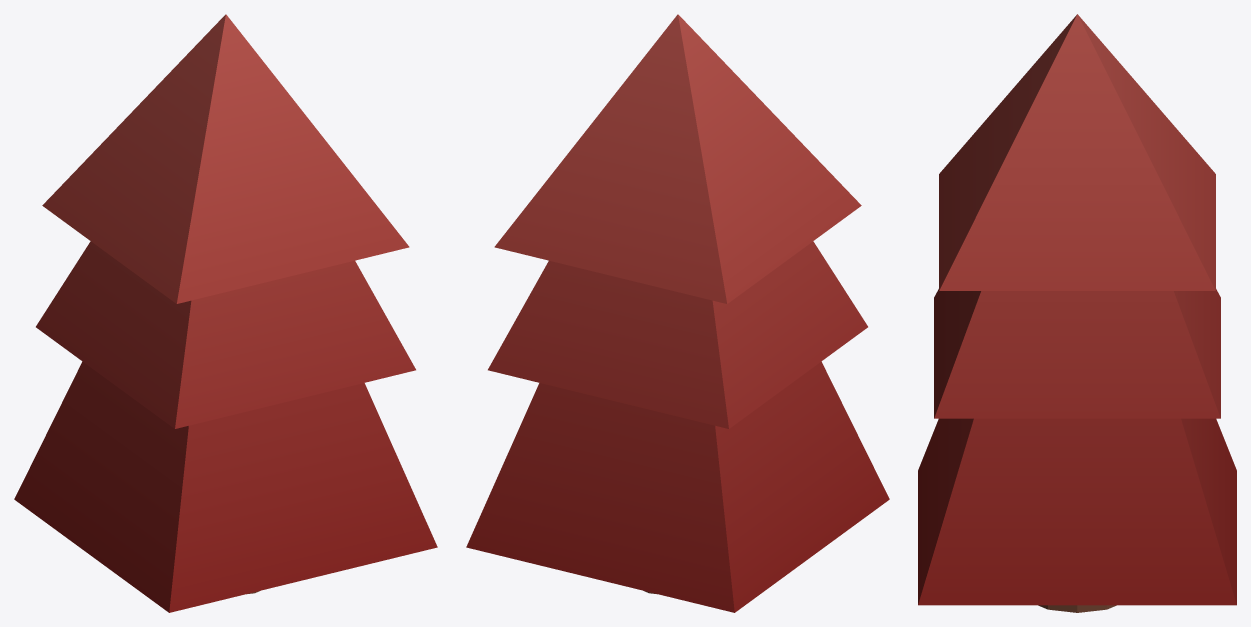
The model's file is Tree_18_gradient_red_vc.fbx.
3 views of the same model, side by side, from view 1: azimuth 30°, elevation 25°; view 2: azimuth 150°, elevation 25°; view 3: azimuth 270°, elevation 25° (orthographic). The views are drawn at different scales.
Visible parts, largest first — view 1: Tree_18_gradient_red_vc; view 2: Tree_18_gradient_red_vc; view 3: Tree_18_gradient_red_vc.
Part boxes in pixels (<box>): Tree_18_gradient_red_vc: <box>14,14,437,612</box>; Tree_18_gradient_red_vc: <box>466,14,889,612</box>; Tree_18_gradient_red_vc: <box>918,14,1236,612</box>.
Bounding box in the file's own units: 95.96 × 191 × 95.96.
